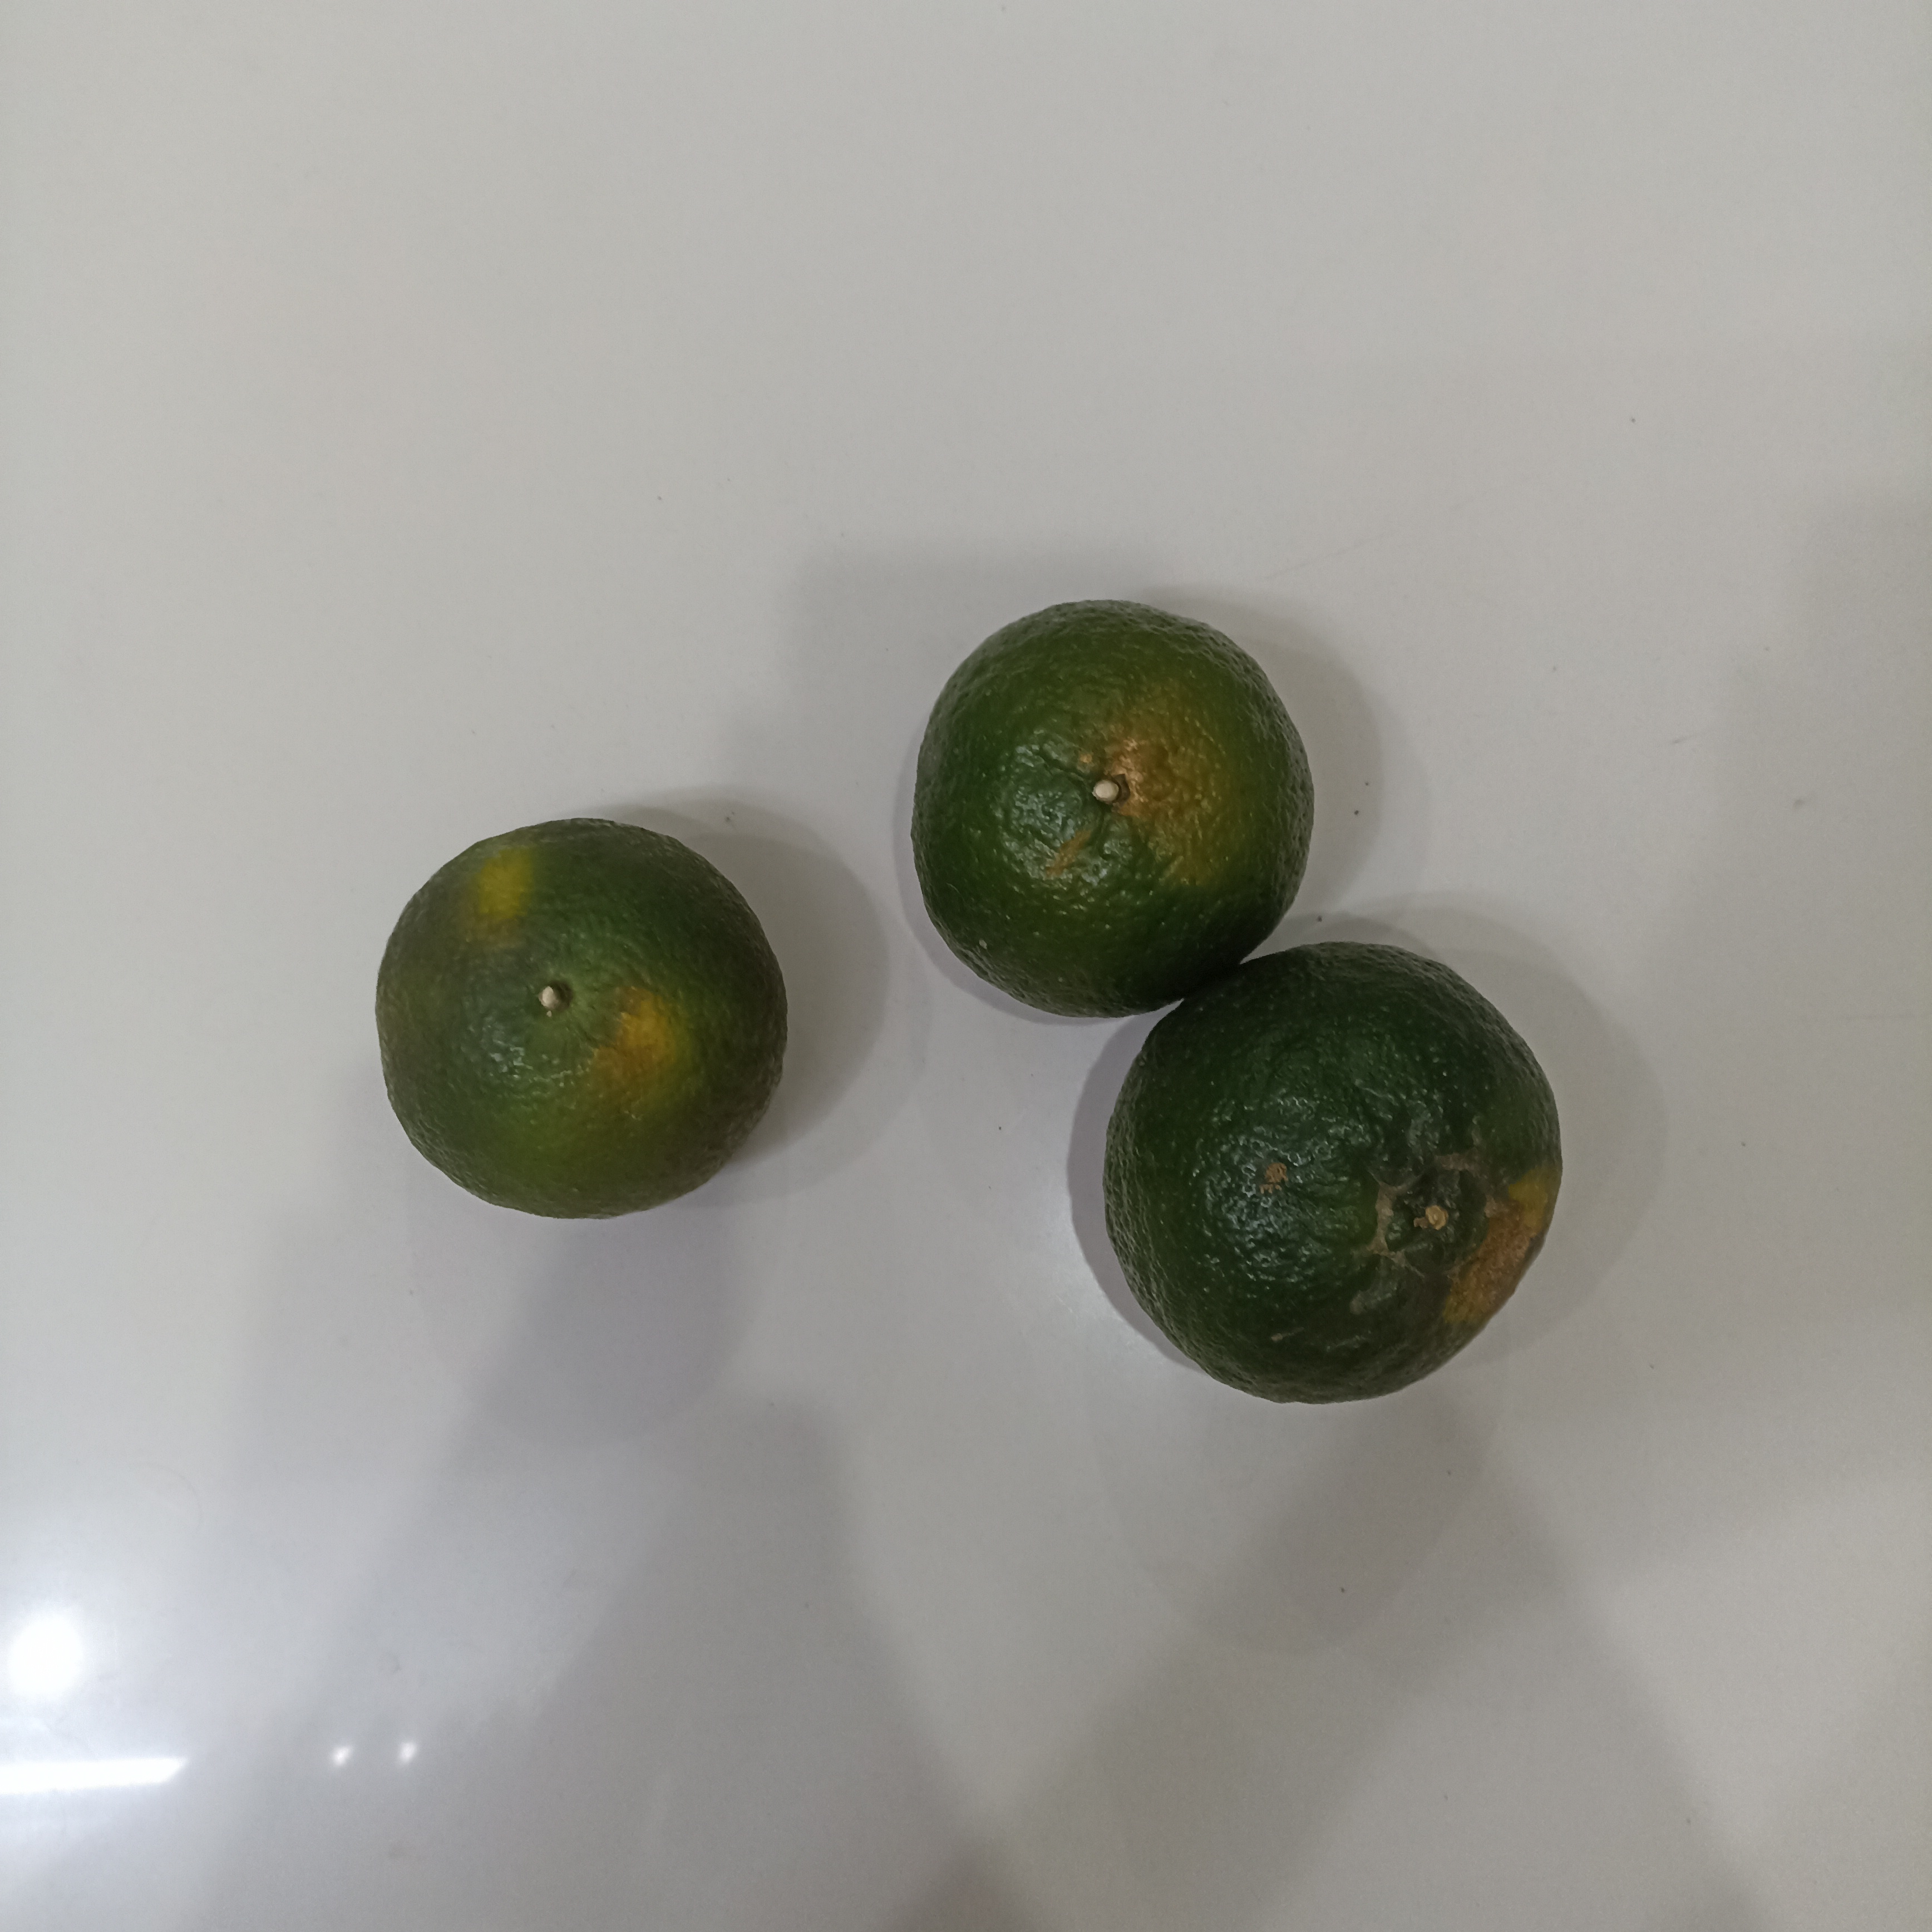Cam: (1102, 936, 1562, 1396), (372, 814, 794, 1228), (911, 600, 1309, 1016)
